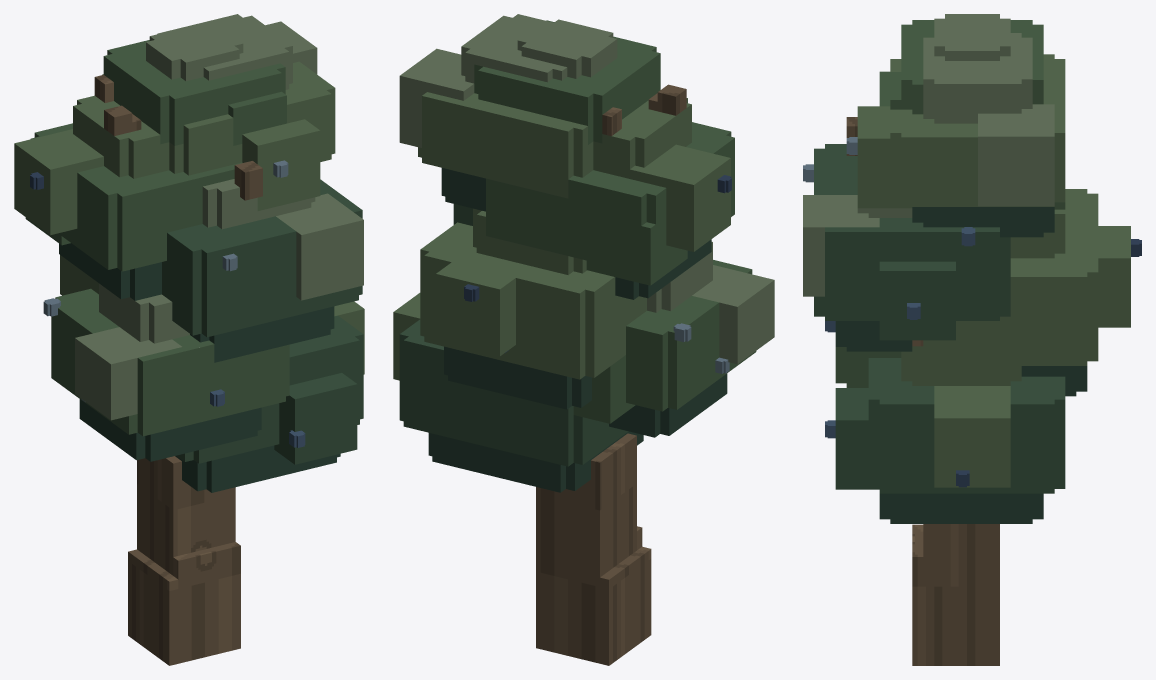
The model's file is juniper_ancient.glb.
3 views of the same model, side by side, from view 1: azimuth 30°, elevation 25°; view 2: azimuth 150°, elevation 25°; view 3: azimuth 270°, elevation 25° (orthographic). The views are drawn at different scales.
Parts seen in each view (by area): view 1: VoxelVisual; view 2: VoxelVisual; view 3: VoxelVisual.
Boxes of the visible parts, bbox=[...] form: VoxelVisual: bbox=[14, 14, 364, 665]; VoxelVisual: bbox=[393, 14, 774, 665]; VoxelVisual: bbox=[803, 14, 1141, 665].
Size of what is drawn, in the model's own units: 9 by 15.75 by 7.75.
